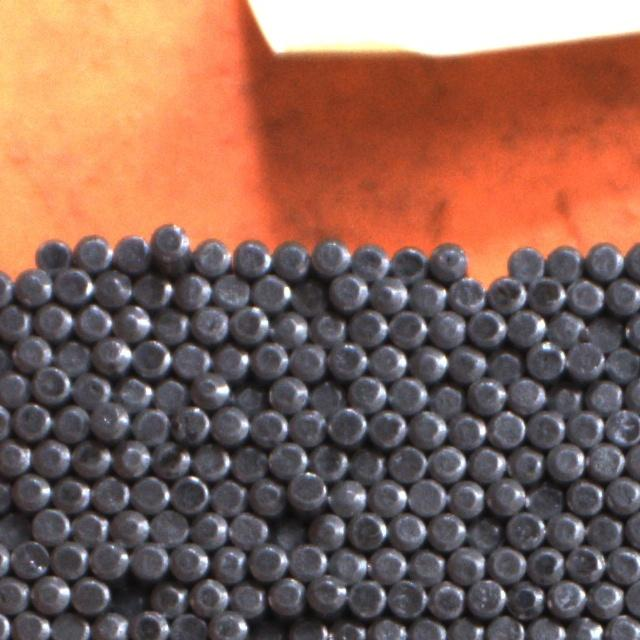tool: (149, 220, 189, 262), (90, 399, 130, 440), (307, 573, 347, 614), (130, 472, 170, 512), (53, 264, 93, 304), (584, 240, 624, 280), (486, 272, 526, 312), (326, 404, 366, 444), (229, 302, 269, 342), (328, 270, 367, 310), (466, 576, 505, 616), (328, 476, 367, 516), (70, 575, 110, 614), (526, 545, 566, 584), (32, 364, 71, 404), (270, 307, 310, 346), (31, 436, 70, 476), (347, 510, 387, 549), (249, 406, 288, 446), (92, 334, 131, 374), (466, 306, 506, 345), (505, 508, 544, 548), (348, 306, 387, 346), (52, 337, 92, 376), (309, 440, 348, 480), (428, 241, 468, 280), (168, 541, 208, 580), (370, 273, 410, 312), (446, 344, 485, 384), (387, 578, 426, 617), (487, 543, 526, 582), (133, 270, 172, 309), (30, 573, 69, 612), (11, 332, 50, 371), (229, 443, 268, 482), (73, 301, 112, 340), (526, 408, 565, 447), (408, 407, 447, 446), (288, 471, 327, 510), (327, 340, 366, 379), (367, 407, 406, 446), (51, 402, 90, 441), (348, 578, 387, 617), (248, 541, 287, 580), (350, 241, 389, 280), (348, 373, 387, 412), (171, 474, 210, 513), (408, 276, 447, 315), (545, 442, 584, 481), (307, 510, 346, 549), (94, 268, 133, 307), (566, 339, 605, 378), (132, 338, 171, 377), (506, 306, 545, 345), (71, 438, 110, 477), (12, 399, 50, 439), (132, 404, 170, 444), (251, 272, 289, 312), (586, 578, 624, 618), (546, 576, 584, 616), (267, 575, 305, 615), (172, 403, 210, 443), (368, 476, 406, 516), (389, 307, 427, 347), (13, 266, 51, 306), (150, 506, 188, 546), (506, 578, 544, 618), (311, 234, 349, 274), (32, 504, 70, 543), (467, 374, 505, 413), (388, 443, 426, 482), (190, 303, 228, 342), (210, 404, 248, 443), (388, 374, 427, 412), (407, 476, 446, 514), (288, 341, 326, 380), (111, 506, 149, 545), (288, 405, 326, 444), (408, 344, 447, 382), (427, 579, 465, 618), (51, 474, 90, 512), (368, 546, 407, 584), (173, 271, 211, 310), (367, 342, 406, 380), (91, 473, 129, 512), (188, 576, 227, 614), (487, 408, 525, 447), (565, 544, 604, 582), (526, 339, 564, 378), (546, 510, 585, 548), (446, 545, 484, 584), (388, 510, 426, 549), (190, 508, 228, 547), (288, 540, 326, 579), (210, 542, 248, 581), (446, 477, 484, 516), (328, 544, 367, 582), (112, 438, 151, 476), (190, 442, 229, 480), (447, 274, 485, 313), (10, 538, 48, 577), (268, 373, 306, 412), (248, 476, 287, 514), (114, 302, 152, 341), (130, 539, 168, 578), (273, 238, 311, 277), (228, 510, 267, 548), (89, 539, 127, 578), (268, 440, 306, 479), (586, 439, 624, 478), (233, 236, 272, 274), (193, 235, 231, 274), (148, 580, 187, 618), (506, 243, 544, 282), (388, 242, 426, 281), (109, 578, 148, 616), (566, 406, 604, 444), (212, 270, 250, 308), (468, 444, 506, 482), (507, 444, 545, 482), (428, 444, 466, 482), (487, 476, 525, 514), (506, 374, 544, 412), (209, 476, 247, 514), (565, 477, 603, 515), (34, 300, 72, 338), (566, 275, 604, 313), (428, 308, 466, 346), (427, 511, 465, 549), (486, 345, 524, 383), (152, 305, 190, 343), (546, 308, 584, 346), (114, 372, 152, 410), (229, 578, 267, 616), (448, 410, 486, 448), (191, 369, 229, 407), (50, 538, 88, 576), (172, 340, 210, 378), (348, 445, 386, 483), (310, 308, 348, 346), (70, 507, 108, 545), (250, 340, 288, 378), (289, 278, 327, 316), (73, 231, 111, 269), (308, 380, 346, 418), (546, 378, 584, 416), (113, 232, 150, 271), (72, 371, 111, 408), (151, 441, 190, 478), (526, 479, 563, 518), (604, 474, 640, 514), (604, 275, 640, 315), (12, 471, 49, 509), (408, 546, 445, 584), (211, 341, 249, 378), (528, 274, 565, 312), (585, 511, 623, 548), (152, 375, 190, 412), (545, 243, 582, 281), (584, 314, 621, 352), (604, 405, 640, 444), (586, 376, 623, 413), (427, 379, 464, 416), (466, 514, 503, 551), (229, 379, 267, 415), (32, 237, 70, 273), (270, 514, 308, 550), (604, 344, 640, 381), (605, 544, 640, 582), (208, 607, 247, 640), (128, 608, 168, 640), (90, 607, 128, 640), (0, 300, 31, 340), (11, 608, 49, 640), (168, 610, 208, 640), (0, 437, 30, 476), (0, 368, 30, 406), (50, 610, 88, 640), (0, 509, 29, 547), (0, 574, 28, 613), (486, 612, 524, 640), (604, 612, 640, 640), (328, 615, 368, 640), (565, 614, 603, 640), (526, 614, 564, 640), (446, 614, 484, 640), (408, 614, 446, 640), (370, 614, 407, 640), (249, 616, 287, 640), (287, 617, 326, 640), (623, 310, 640, 348)
